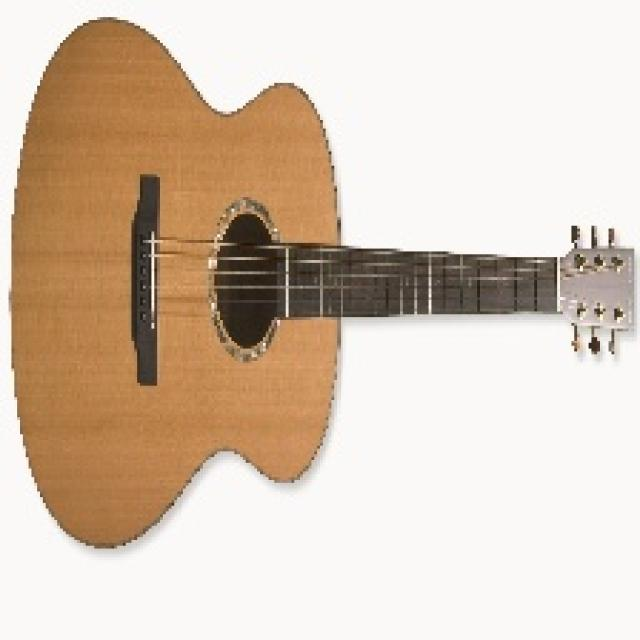guitar: (6, 18, 636, 548)
